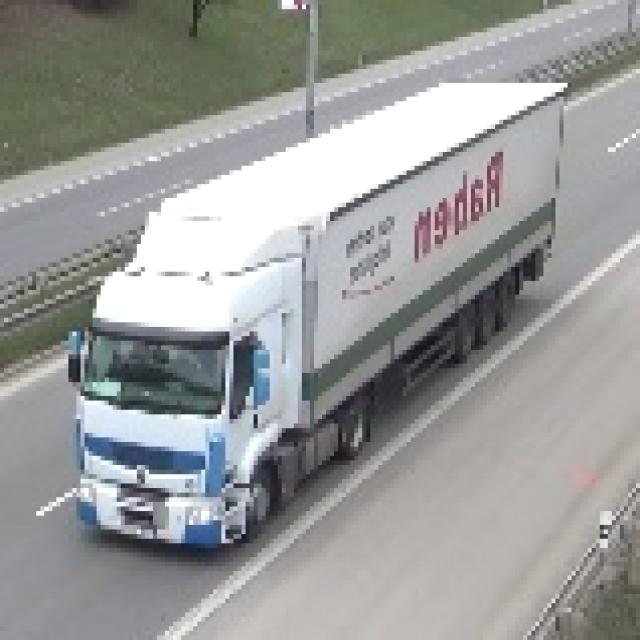TRUCK: (61, 78, 576, 576)
